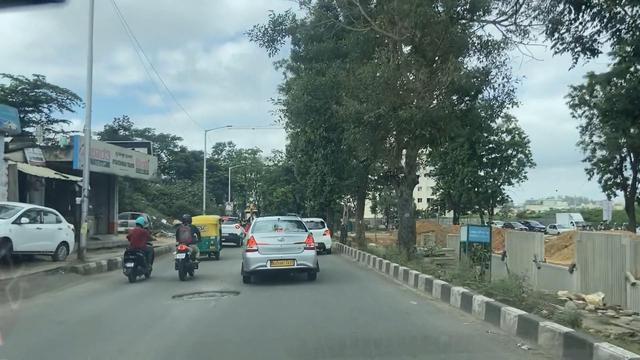LMV: (242, 221, 318, 273), (122, 215, 155, 279), (175, 209, 202, 272)
RoadDamages: (169, 288, 245, 304)
